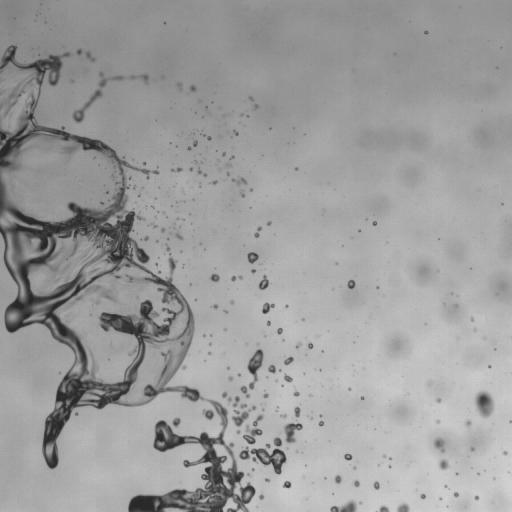droplet: (239, 437, 286, 474), (222, 392, 255, 427), (243, 414, 263, 444), (474, 390, 494, 418), (284, 422, 302, 443), (433, 437, 445, 452), (258, 275, 269, 289), (438, 458, 449, 470), (247, 252, 258, 263), (262, 303, 274, 313), (396, 502, 409, 511), (210, 273, 219, 282), (267, 364, 276, 373), (172, 417, 180, 427), (347, 280, 355, 289), (284, 357, 293, 365), (294, 406, 300, 418), (35, 168, 42, 178), (284, 374, 292, 382), (334, 475, 341, 483), (283, 481, 291, 488), (175, 232, 182, 239), (295, 341, 301, 349), (344, 454, 352, 460), (373, 481, 379, 489), (465, 420, 471, 427), (307, 343, 313, 349), (293, 390, 299, 396), (76, 49, 81, 55), (190, 85, 195, 91), (226, 163, 232, 168), (211, 180, 217, 185), (150, 222, 156, 227), (277, 328, 282, 334), (263, 392, 268, 398), (318, 421, 324, 426), (354, 480, 359, 486), (25, 80, 32, 84), (240, 190, 244, 197), (166, 244, 170, 251), (177, 83, 182, 88), (233, 130, 238, 135), (502, 450, 507, 455), (420, 494, 425, 499), (193, 140, 197, 146), (281, 414, 287, 418), (254, 104, 258, 109), (206, 136, 211, 140), (143, 236, 148, 240), (212, 304, 217, 308), (228, 376, 233, 380), (436, 398, 441, 402), (454, 492, 458, 497), (259, 494, 263, 499), (474, 495, 478, 500), (0, 89, 4, 93), (189, 167, 193, 171), (267, 221, 271, 225), (372, 221, 376, 225), (251, 269, 255, 273), (436, 419, 440, 423), (236, 429, 240, 433), (470, 447, 474, 451), (249, 97, 253, 100), (187, 147, 191, 150), (230, 155, 233, 159), (230, 300, 233, 304), (470, 317, 473, 321), (267, 321, 270, 325), (265, 478, 269, 481), (425, 31, 428, 34), (226, 172, 229, 175), (35, 183, 38, 186), (161, 228, 164, 231), (383, 455, 386, 458), (222, 153, 225, 155), (143, 162, 145, 165), (295, 167, 297, 170), (208, 352, 211, 354), (238, 373, 240, 376), (348, 388, 351, 390), (361, 396, 363, 399), (276, 407, 278, 410), (439, 497, 441, 500), (54, 171, 56, 173), (133, 186, 135, 188), (250, 189, 252, 191), (138, 194, 140, 196), (158, 270, 160, 272), (285, 305, 287, 307), (225, 310, 227, 312), (90, 313, 92, 315), (474, 328, 476, 330), (121, 347, 123, 349), (489, 365, 491, 367), (227, 367, 229, 369), (309, 394, 311, 396), (388, 465, 390, 467), (251, 468, 253, 470), (445, 485, 447, 487), (359, 502, 361, 504)
ligament: (0, 94, 249, 511), (0, 45, 70, 87), (72, 72, 124, 123), (240, 349, 263, 398), (0, 83, 24, 116), (330, 500, 357, 511), (129, 74, 148, 83), (232, 177, 247, 184), (86, 51, 95, 61), (376, 505, 389, 511), (254, 226, 261, 237), (110, 346, 119, 354), (197, 169, 207, 176), (231, 275, 242, 281), (171, 167, 181, 172), (0, 78, 1, 81)
